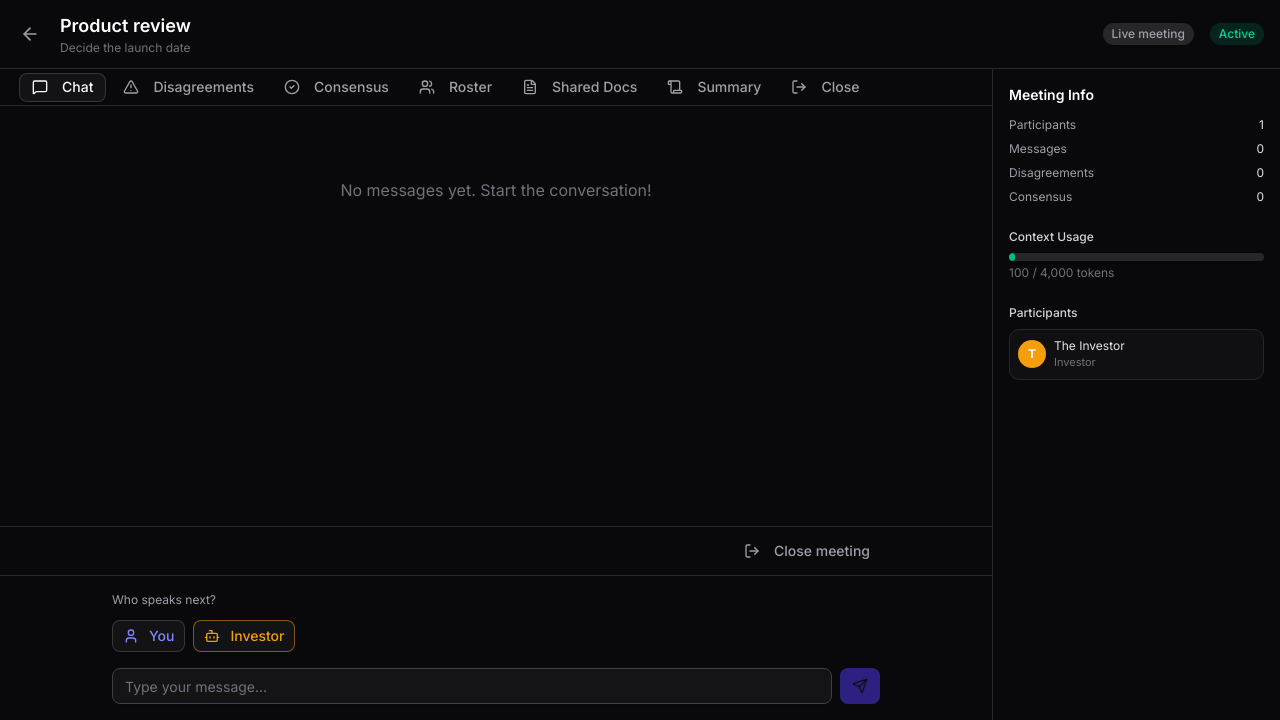
Test: MeetingRoom › keeps the draft when the save fails
Type "Do not lose me" into the field with placeholder "Type your message..." at [472, 686], box top-left (112, 668), bottom-right (832, 704)
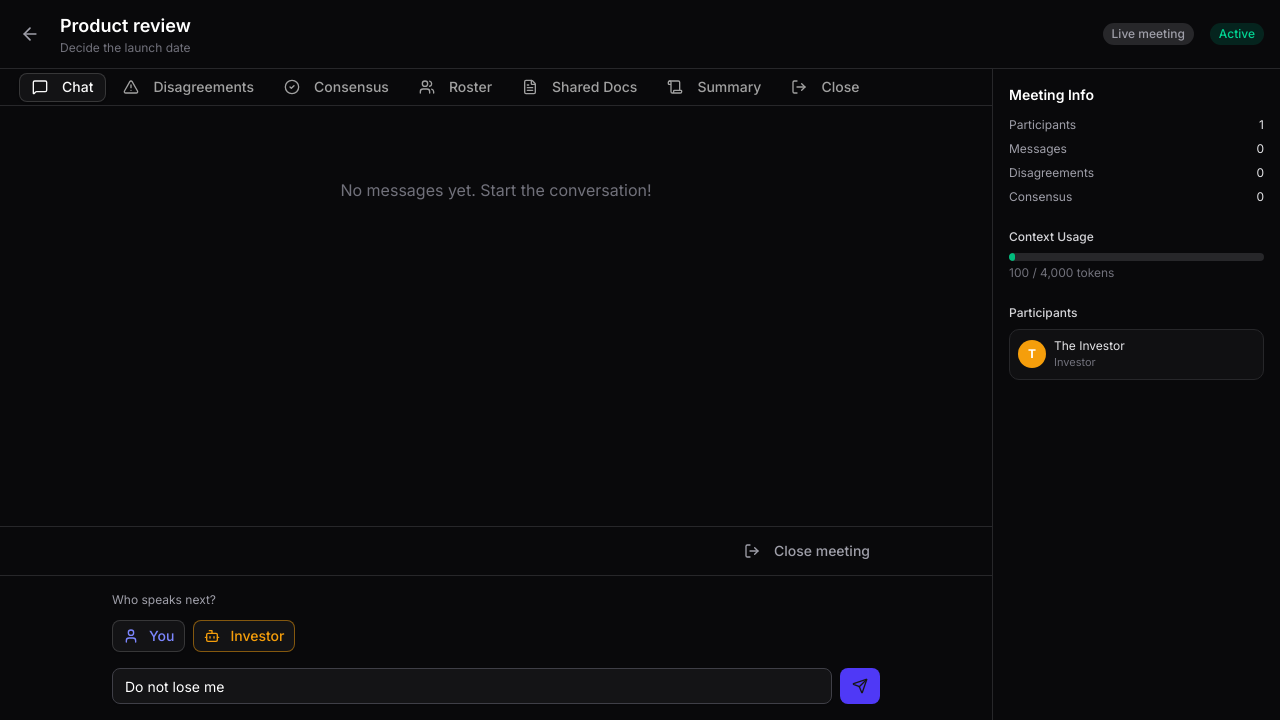
Click the button named "Send message" at [860, 686], box top-left (840, 668), bottom-right (880, 704)
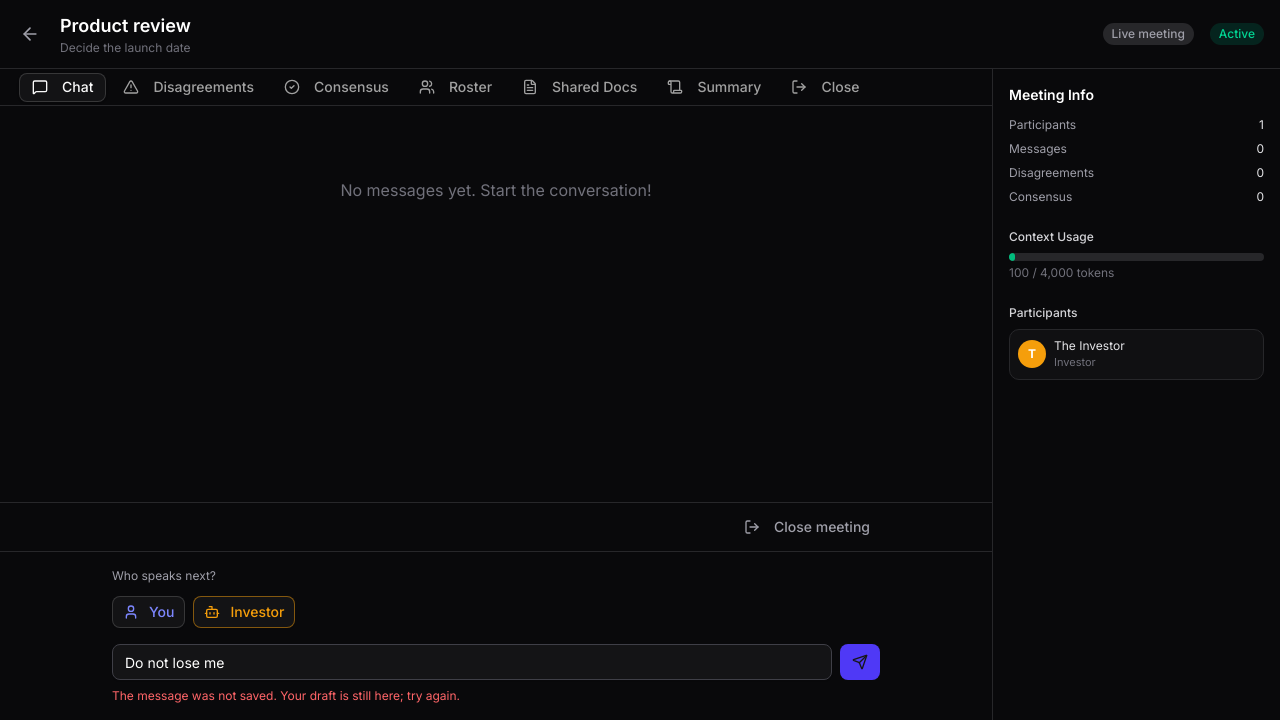
expect the text "The message was not saved. Your draft is still here; try again." is shown: met, box top-left (112, 688), bottom-right (460, 703)
